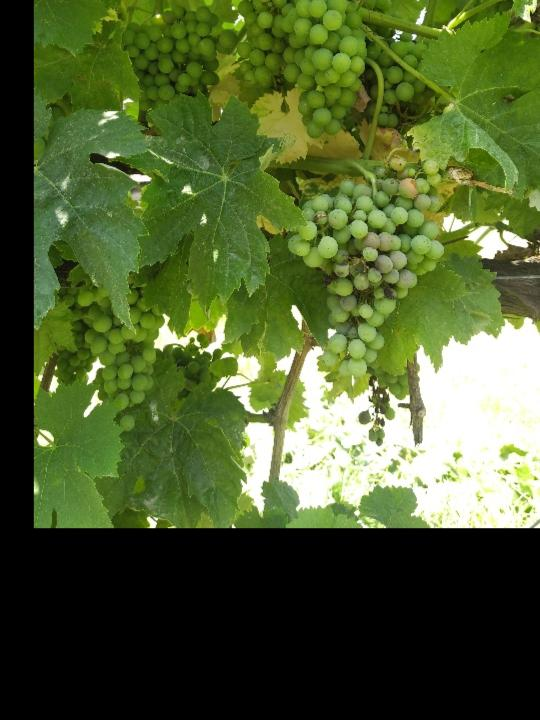grape: (286, 161, 443, 378), (224, 0, 375, 139), (55, 281, 168, 433), (120, 9, 231, 128)
